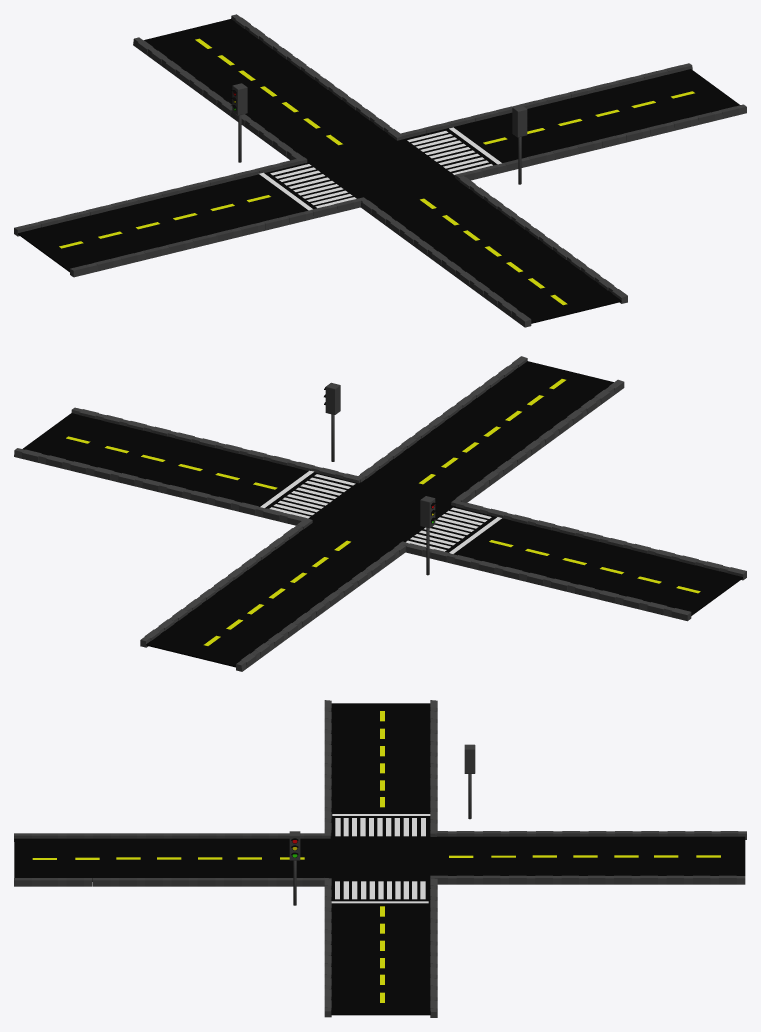
The model's file is Crossing.fbx.
The picture shows the model from 3 angles, top to bottom: view 1: azimuth 30°, elevation 25°; view 2: azimuth 150°, elevation 25°; view 3: azimuth 270°, elevation 25°; orthographic projection. The views are drawn at different scales.
Visible parts, largest first — view 1: Road.006, Road.004, Road, Road.002, Road.003, Cube.062, Cube.001, Cube.005, Cube.004, Cube.034, Cube.002, Road.001 (+4 smaller); view 2: Road.004, Road.006, Road.002, Road, Road.003, Road.001, Cube.002, Cube.034, Cube.004, Cube.005, Cube.062, Cube.001 (+4 smaller); view 3: Road.004, Road.002, Road.006, Road, Road.003, Road.001, Cube.003, Cube.006, Cube.004, Cube.005, Cube.002, Cube.001 (+4 smaller).
Boxes of the visible parts, box(x1,y1,x2,y2) form: Road.006: box(369, 179, 621, 323); Road.004: box(144, 19, 396, 162); Road: box(18, 163, 352, 272); Road.002: box(405, 69, 740, 175); Road.003: box(306, 139, 456, 200); Cube.062: box(70, 198, 361, 277); Cube.001: box(455, 104, 746, 180); Cube.005: box(359, 197, 531, 327); Cube.004: box(133, 37, 306, 164); Cube.034: box(14, 157, 307, 236); Cube.002: box(401, 63, 692, 138); Road.001: box(18, 170, 307, 270); Road.004: box(146, 523, 398, 667); Road.006: box(362, 361, 613, 503); Road.002: box(23, 413, 356, 518); Road: box(409, 507, 742, 615); Road.003: box(310, 482, 455, 543); Road.001: box(462, 508, 741, 593); Cube.002: box(14, 448, 306, 525); Cube.034: box(399, 542, 691, 621); Cube.004: box(236, 541, 406, 671); Cube.005: box(451, 379, 624, 506); Cube.062: box(455, 501, 746, 580); Cube.001: box(71, 407, 362, 483); Road.004: box(430, 836, 745, 875); Road.002: box(331, 881, 430, 1015); Road.006: box(14, 838, 327, 881); Road: box(331, 703, 430, 836); Road.003: box(327, 836, 430, 880); Road.001: box(331, 703, 430, 836); Cube.003: box(430, 875, 745, 884); Cube.006: box(14, 878, 328, 886); Cube.004: box(430, 831, 746, 839); Cube.005: box(14, 833, 330, 841); Cube.002: box(430, 877, 437, 1017); Cube.001: box(324, 878, 331, 1017).
Size of the model in its own units: 20955 by 2246 by 20832.
